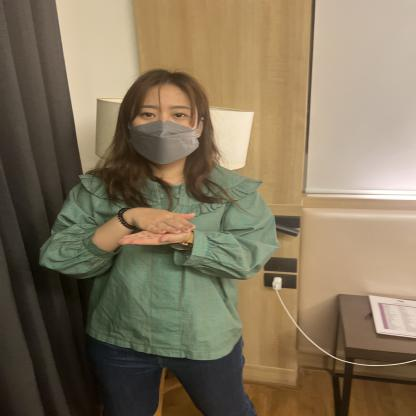Love: (38, 146, 334, 344)
